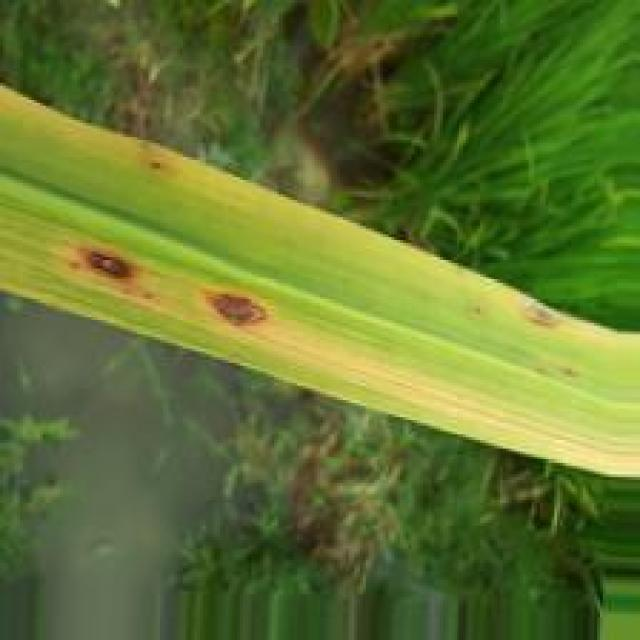Brown_Spot: (196, 289, 279, 331), (72, 246, 142, 288), (520, 303, 560, 331)
